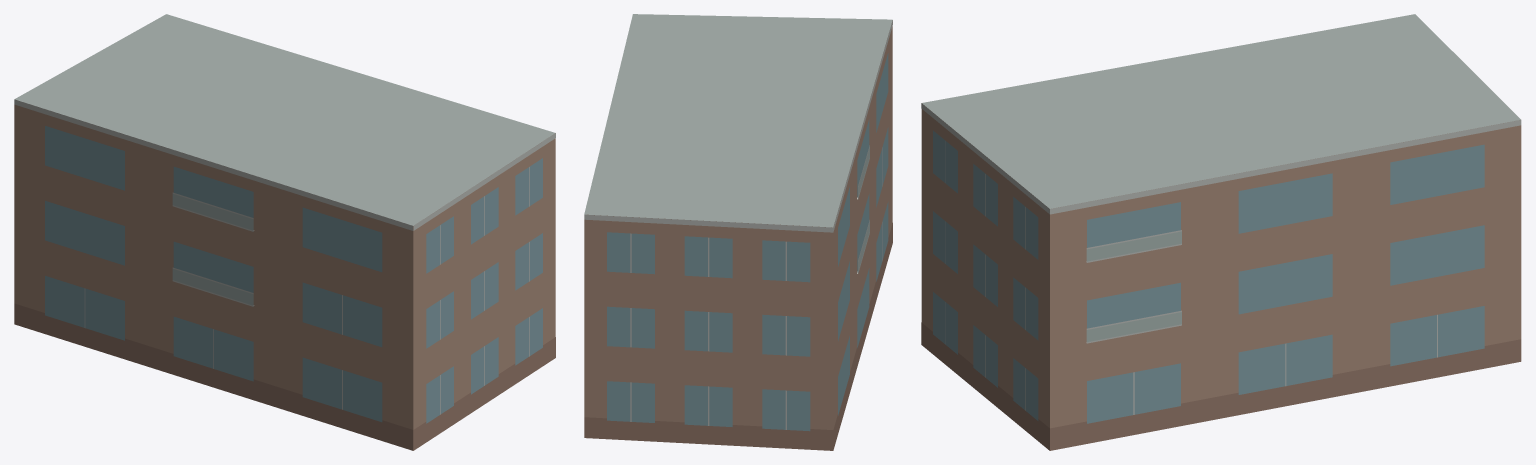
The model's file is survey-upis-32986917.glb.
3 views of the same model, side by side, from view 1: azimuth 30°, elevation 25°; view 2: azimuth 150°, elevation 25°; view 3: azimuth 270°, elevation 25° (orthographic). The views are drawn at different scales.
Visible parts, largest first — view 1: survey-upis-32986917.tmp; view 2: survey-upis-32986917.tmp; view 3: survey-upis-32986917.tmp.
Boxes of the visible parts, x1,y1,x2,y2 form: survey-upis-32986917.tmp: (14, 14, 555, 450); survey-upis-32986917.tmp: (584, 14, 892, 450); survey-upis-32986917.tmp: (921, 14, 1521, 450).
Size of the model in its own units: 18.35 by 10.61 by 23.85.
